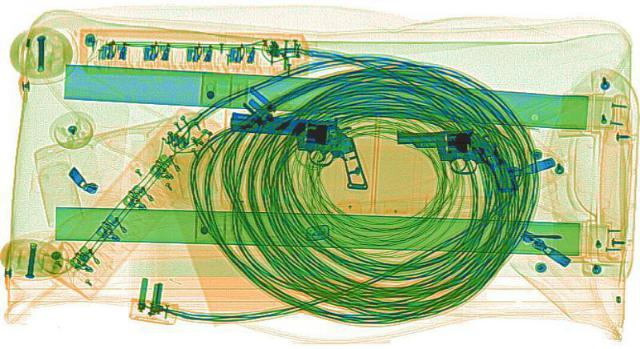Gun: (205, 110, 392, 189), (391, 124, 517, 195)
